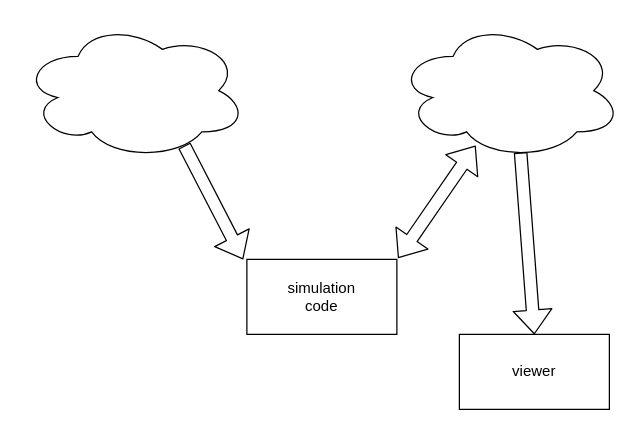
The diagram is 644 pixels wide and 431 high, and some of its shapes have lost their labels. Here are the shapes that lost their labels. From the top down, the box of each, then its label:
(21, 21, 247, 159): menu data from headquarters
(396, 21, 622, 159): order data from cafe
